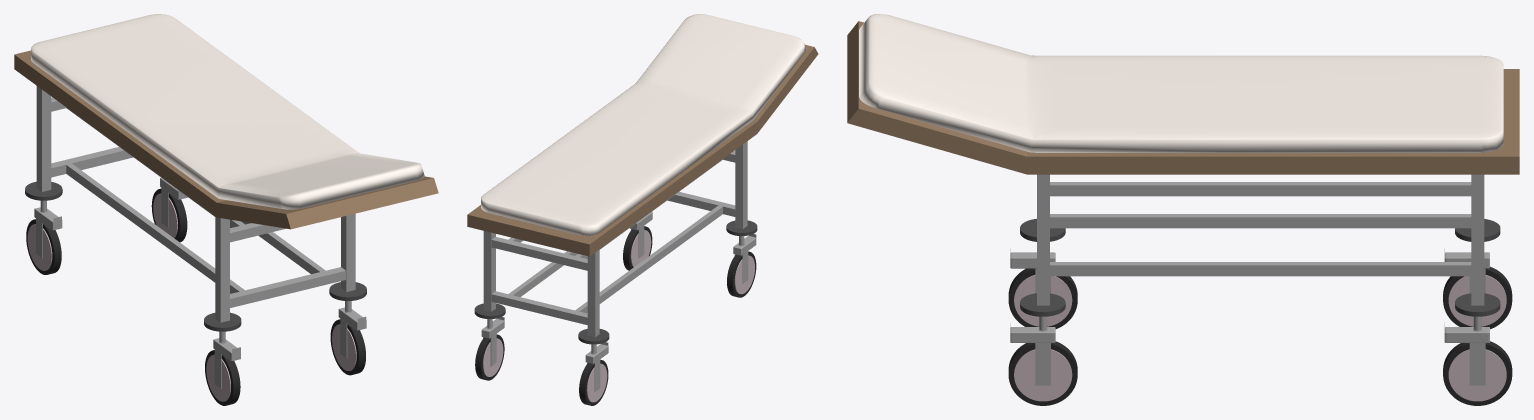
The model's file is katalka.fbx.
3 renders of one model, left to right at view 1: azimuth 30°, elevation 25°; view 2: azimuth 150°, elevation 25°; view 3: azimuth 270°, elevation 25°, orthographic. The views are drawn at different scales.
Visible parts, largest first — view 1: Cube.190, Cube.191, Cube.211, Cube.196, Cube.193, Cube.195, Cube.194, Cube.197, Cube.210, Cylinder.110, Cylinder.103, Cylinder.102 (+12 smaller); view 2: Cube.190, Cube.191, Cube.211, Cube.197, Cube.213, Cube.193, Cube.195, Cube.192, Cube.196, Cube.210, Cylinder.106, Cylinder.112 (+9 smaller); view 3: Cube.190, Cube.191, Cube.210, Cube.211, Cube.214, Cylinder.108, Cylinder.104, Cube.192, Cube.194, Cylinder.111, Cylinder.114, Cylinder.102 (+9 smaller).
Boxes of the visible parts, bbox=[...] form: Cube.190: bbox=[31, 14, 424, 209]; Cube.191: bbox=[14, 50, 438, 229]; Cube.211: bbox=[66, 163, 244, 293]; Cube.196: bbox=[230, 267, 345, 307]; Cube.193: bbox=[36, 86, 51, 191]; Cube.195: bbox=[215, 216, 229, 322]; Cube.194: bbox=[341, 213, 355, 291]; Cube.197: bbox=[51, 147, 133, 177]; Cube.210: bbox=[241, 221, 325, 274]; Cylinder.110: bbox=[206, 354, 230, 401]; Cylinder.103: bbox=[332, 324, 356, 370]; Cylinder.102: bbox=[330, 319, 365, 375]; Cube.190: bbox=[481, 14, 806, 235]; Cube.191: bbox=[467, 44, 818, 256]; Cube.211: bbox=[575, 205, 722, 313]; Cube.197: bbox=[491, 291, 587, 324]; Cube.213: bbox=[491, 237, 587, 270]; Cube.193: bbox=[587, 249, 599, 337]; Cube.195: bbox=[735, 141, 747, 228]; Cube.192: bbox=[483, 231, 495, 311]; Cube.196: bbox=[667, 191, 735, 216]; Cube.210: bbox=[508, 251, 577, 296]; Cylinder.106: bbox=[475, 334, 504, 380]; Cylinder.112: bbox=[579, 359, 608, 405]; Cube.190: bbox=[859, 14, 1503, 152]; Cube.191: bbox=[847, 21, 1519, 174]; Cube.210: bbox=[1050, 262, 1471, 276]; Cube.211: bbox=[1050, 214, 1471, 228]; Cube.214: bbox=[1050, 182, 1471, 196]; Cylinder.108: bbox=[1448, 349, 1506, 401]; Cylinder.104: bbox=[1014, 349, 1072, 401]; Cube.192: bbox=[1471, 174, 1484, 305]; Cube.194: bbox=[1037, 174, 1049, 305]; Cylinder.111: bbox=[1014, 275, 1072, 326]; Cylinder.114: bbox=[1448, 275, 1506, 326]; Cylinder.102: bbox=[1008, 341, 1077, 405].
Bounding box in the file's own units: 223 × 350 × 676.
